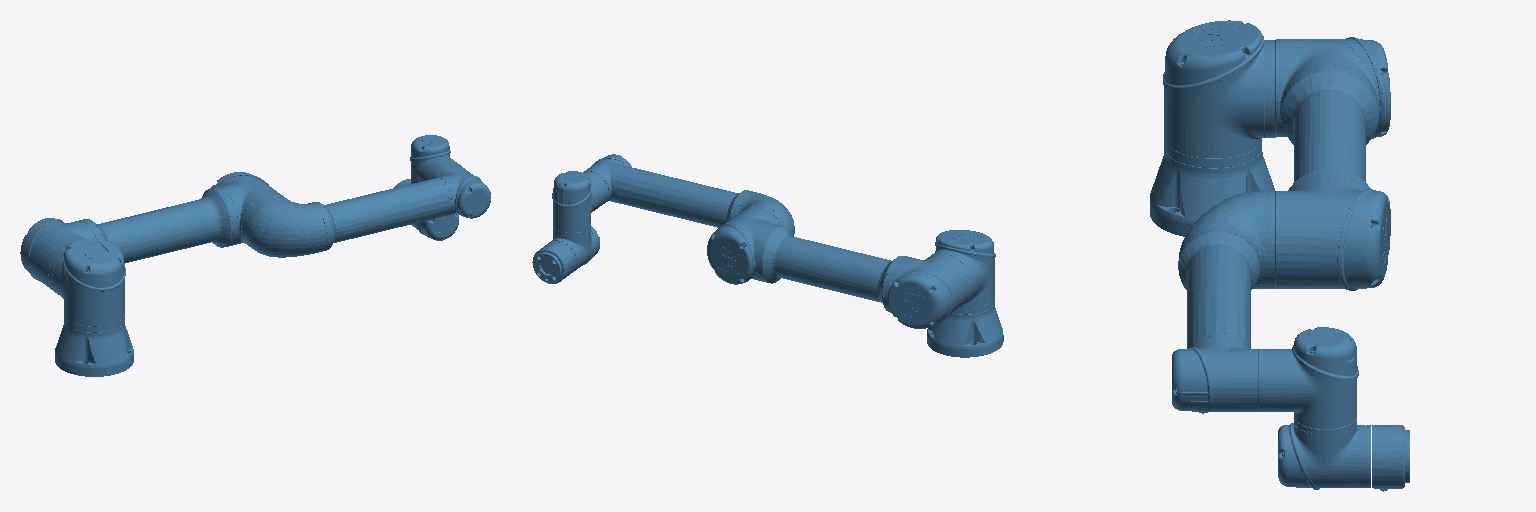
robot.urdf — ur7e:
<?xml version='1.0' encoding='utf-8'?>
<robot name="ur7e">
  <link name="base_link" />
  <link name="base_link_inertia">
    <inertial>
      <origin xyz="0 0 0" rpy="0 0 0" />
      <mass value="4.0" />
      <inertia ixx="0.004433333333333333" iyy="0.004433333333333333" izz="0.0072" ixy="0" ixz="0" iyz="0" />
    </inertial>
    <visual>
      <origin xyz="0.0 0.0 0.0" rpy="0.0 0.0 3.141592653589793" />
      <geometry>
        <mesh filename="meshes/visual/base.obj" />
      </geometry>
      <material name="ur_blue">
        <color rgba="0.35 0.55 0.7 1" />
      </material>
    </visual>
    <collision>
      <origin xyz="0.0 0.0 0.0" rpy="0.0 0.0 3.141592653589793" />
      <geometry>
        <mesh filename="meshes/collision/base.obj" />
      </geometry>
    </collision>
  </link>
  <joint name="base_link-base_link_inertia" type="fixed">
    <parent link="base_link" />
    <child link="base_link_inertia" />
    <origin xyz="0 0 0" rpy="0 0 3.141592653589793" />
  </joint>
  <link name="shoulder_link">
    <inertial>
      <origin xyz="0.0 -0.00193 -0.02561" rpy="1.570796326794897 0 0" />
      <mass value="3.761" />
      <inertia ixx="0.0070021" ixy="7.3e-07" ixz="-1.053e-05" iyy="0.00648091" iyz="0.00049994" izz="0.00657286" />
    </inertial>
    <visual>
      <origin xyz="0.0 0.0 0.0" rpy="0.0 0.0 3.141592653589793" />
      <geometry>
        <mesh filename="meshes/visual/shoulder.obj" />
      </geometry>
      <material name="ur_blue">
        <color rgba="0.35 0.55 0.7 1" />
      </material>
    </visual>
    <collision>
      <origin xyz="0.0 0.0 0.0" rpy="0.0 0.0 3.141592653589793" />
      <geometry>
        <mesh filename="meshes/collision/shoulder.obj" />
      </geometry>
    </collision>
  </link>
  <joint name="shoulder_pan_joint" type="revolute">
    <parent link="base_link_inertia" />
    <child link="shoulder_link" />
    <origin xyz="0 0 0.1625" rpy="0 0 0" />
    <axis xyz="0 0 1" />
    <limit lower="-6.283185307179586" upper="6.283185307179586" effort="150" velocity="3.141592653589793" />
    <dynamics damping="0" friction="0" />
  </joint>
  <transmission name="shoulder_pan_joint_transmission">
    <type>transmission_interface/SimpleTransmission</type>
    <joint name="shoulder_pan_joint">
      <hardwareInterface>hardware_interface/EffortJointInterface</hardwareInterface>
    </joint>
    <actuator name="shoulder_pan_joint_actuator">
      <mechanicalReduction>1</mechanicalReduction>
    </actuator>
  </transmission>
  <link name="upper_arm_link">
    <inertial>
      <origin xyz="-0.2125 0.0 0.11336" rpy="0 0 0" />
      <mass value="8.058" />
      <inertia ixx="0.01505885" ixy="-5.4e-05" ixz="5.63e-06" iyy="0.33388086" iyz="-1.81e-06" izz="0.33247207" />
    </inertial>
    <visual>
      <origin xyz="0.0 0.0 0.138" rpy="1.5707963267948966 0.0 -1.5707963267948966" />
      <geometry>
        <mesh filename="meshes/visual/upper_arm.obj" />
      </geometry>
      <material name="ur_blue">
        <color rgba="0.35 0.55 0.7 1" />
      </material>
    </visual>
    <collision>
      <origin xyz="0.0 0.0 0.138" rpy="1.5707963267948966 0.0 -1.5707963267948966" />
      <geometry>
        <mesh filename="meshes/collision/upper_arm.obj" />
      </geometry>
    </collision>
  </link>
  <joint name="shoulder_lift_joint" type="revolute">
    <parent link="shoulder_link" />
    <child link="upper_arm_link" />
    <origin xyz="0 0 0" rpy="1.570796327 0 0" />
    <axis xyz="0 0 1" />
    <limit lower="-6.283185307179586" upper="6.283185307179586" effort="150" velocity="3.141592653589793" />
    <dynamics damping="0" friction="0" />
  </joint>
  <transmission name="shoulder_lift_joint_transmission">
    <type>transmission_interface/SimpleTransmission</type>
    <joint name="shoulder_lift_joint">
      <hardwareInterface>hardware_interface/EffortJointInterface</hardwareInterface>
    </joint>
    <actuator name="shoulder_lift_joint_actuator">
      <mechanicalReduction>1</mechanicalReduction>
    </actuator>
  </transmission>
  <link name="forearm_link">
    <inertial>
      <origin xyz="-0.2422 0.0 0.0265" rpy="0 0 0" />
      <mass value="2.846" />
      <inertia ixx="0.00399632" ixy="-1.365e-05" ixz="0.00137272" iyy="0.07879254" iyz="-6.6e-06" izz="0.0784851" />
    </inertial>
    <visual>
      <origin xyz="0.0 0.0 0.007" rpy="1.5707963267948966 0.0 -1.5707963267948966" />
      <geometry>
        <mesh filename="meshes/visual/forearm.obj" />
      </geometry>
      <material name="ur_blue">
        <color rgba="0.35 0.55 0.7 1" />
      </material>
    </visual>
    <collision>
      <origin xyz="0.0 0.0 0.007" rpy="1.5707963267948966 0.0 -1.5707963267948966" />
      <geometry>
        <mesh filename="meshes/collision/forearm.obj" />
      </geometry>
    </collision>
  </link>
  <joint name="elbow_joint" type="revolute">
    <parent link="upper_arm_link" />
    <child link="forearm_link" />
    <origin xyz="-0.425 0 0" rpy="0 0 0" />
    <axis xyz="0 0 1" />
    <limit lower="-3.141592653589793" upper="3.141592653589793" effort="150" velocity="3.141592653589793" />
    <dynamics damping="0" friction="0" />
  </joint>
  <transmission name="elbow_joint_transmission">
    <type>transmission_interface/SimpleTransmission</type>
    <joint name="elbow_joint">
      <hardwareInterface>hardware_interface/EffortJointInterface</hardwareInterface>
    </joint>
    <actuator name="elbow_joint_actuator">
      <mechanicalReduction>1</mechanicalReduction>
    </actuator>
  </transmission>
  <link name="wrist_1_link">
    <inertial>
      <origin xyz="0.0 -0.01634 -0.0018" rpy="1.570796326794897 0 0" />
      <mass value="1.37" />
      <inertia ixx="0.00165491" ixy="-2.82e-06" ixz="-4.38e-06" iyy="0.00135962" iyz="0.00010157" izz="0.00126279" />
    </inertial>
    <visual>
      <origin xyz="0.0 0.0 -0.127" rpy="1.5707963267948966 0.0 0.0" />
      <geometry>
        <mesh filename="meshes/visual/wrist_1.obj" />
      </geometry>
      <material name="ur_blue">
        <color rgba="0.35 0.55 0.7 1" />
      </material>
    </visual>
    <collision>
      <origin xyz="0.0 0.0 -0.127" rpy="1.5707963267948966 0.0 0.0" />
      <geometry>
        <mesh filename="meshes/collision/wrist_1.obj" />
      </geometry>
    </collision>
  </link>
  <joint name="wrist_1_joint" type="revolute">
    <parent link="forearm_link" />
    <child link="wrist_1_link" />
    <origin xyz="-0.3922 0 0.1333" rpy="0 0 0" />
    <axis xyz="0 0 1" />
    <limit lower="-6.283185307179586" upper="6.283185307179586" effort="28" velocity="3.141592653589793" />
    <dynamics damping="0" friction="0" />
  </joint>
  <transmission name="wrist_1_joint_transmission">
    <type>transmission_interface/SimpleTransmission</type>
    <joint name="wrist_1_joint">
      <hardwareInterface>hardware_interface/EffortJointInterface</hardwareInterface>
    </joint>
    <actuator name="wrist_1_joint_actuator">
      <mechanicalReduction>1</mechanicalReduction>
    </actuator>
  </transmission>
  <link name="wrist_2_link">
    <inertial>
      <origin xyz="0.0 0.01634 -0.0018" rpy="-1.570796326794897 0 0" />
      <mass value="1.3" />
      <inertia ixx="0.00135617" ixy="-2.74e-06" ixz="4.44e-06" iyy="0.00127827" iyz="-5.048e-05" izz="0.00096614" />
    </inertial>
    <visual>
      <origin xyz="0.0 0.0 -0.0997" rpy="0.0 0.0 0.0" />
      <geometry>
        <mesh filename="meshes/visual/wrist_2.obj" />
      </geometry>
      <material name="ur_blue">
        <color rgba="0.35 0.55 0.7 1" />
      </material>
    </visual>
    <collision>
      <origin xyz="0.0 0.0 -0.0997" rpy="0.0 0.0 0.0" />
      <geometry>
        <mesh filename="meshes/collision/wrist_2.obj" />
      </geometry>
    </collision>
  </link>
  <joint name="wrist_2_joint" type="revolute">
    <parent link="wrist_1_link" />
    <child link="wrist_2_link" />
    <origin xyz="0 -0.0997 -2.044881182297852e-11" rpy="1.570796327 0 0" />
    <axis xyz="0 0 1" />
    <limit lower="-6.283185307179586" upper="6.283185307179586" effort="28" velocity="3.141592653589793" />
    <dynamics damping="0" friction="0" />
  </joint>
  <transmission name="wrist_2_joint_transmission">
    <type>transmission_interface/SimpleTransmission</type>
    <joint name="wrist_2_joint">
      <hardwareInterface>hardware_interface/EffortJointInterface</hardwareInterface>
    </joint>
    <actuator name="wrist_2_joint_actuator">
      <mechanicalReduction>1</mechanicalReduction>
    </actuator>
  </transmission>
  <link name="wrist_3_link">
    <inertial>
      <origin xyz="0.0 0.0 -0.001159" rpy="0 0 0" />
      <mass value="0.365" />
      <inertia ixx="0.00018694" ixy="6e-08" ixz="-1.7e-07" iyy="0.00018908" iyz="-9.2e-07" izz="0.00025756" />
    </inertial>
    <visual>
      <origin xyz="0.0 -0.0005 -0.0989" rpy="1.5707963267948966 0.0 0.0" />
      <geometry>
        <mesh filename="meshes/visual/wrist_3.obj" />
      </geometry>
      <material name="ur_blue">
        <color rgba="0.35 0.55 0.7 1" />
      </material>
    </visual>
    <collision>
      <origin xyz="0.0 -0.0005 -0.0989" rpy="1.5707963267948966 0.0 0.0" />
      <geometry>
        <mesh filename="meshes/collision/wrist_3.obj" />
      </geometry>
    </collision>
  </link>
  <joint name="wrist_3_joint" type="revolute">
    <parent link="wrist_2_link" />
    <child link="wrist_3_link" />
    <origin xyz="0 0.0996 -2.042830148012698e-11" rpy="1.570796326589793 3.141592653589793 3.141592653589793" />
    <axis xyz="0 0 1" />
    <limit lower="-6.283185307179586" upper="6.283185307179586" effort="28" velocity="3.141592653589793" />
    <dynamics damping="0" friction="0" />
  </joint>
  <transmission name="wrist_3_joint_transmission">
    <type>transmission_interface/SimpleTransmission</type>
    <joint name="wrist_3_joint">
      <hardwareInterface>hardware_interface/EffortJointInterface</hardwareInterface>
    </joint>
    <actuator name="wrist_3_joint_actuator">
      <mechanicalReduction>1</mechanicalReduction>
    </actuator>
  </transmission>
  <link name="ft_frame" />
  <joint name="wrist_3_link-ft_frame" type="fixed">
    <parent link="wrist_3_link" />
    <child link="ft_frame" />
    <origin xyz="0 0 0" rpy="3.141592653589793 0 0" />
  </joint>
  <link name="base" />
  <joint name="base_link-base" type="fixed">
    <parent link="base_link" />
    <child link="base" />
    <origin xyz="0 0 0" rpy="0 0 3.141592653589793" />
  </joint>
  <link name="flange" />
  <joint name="wrist_3_link-flange" type="fixed">
    <parent link="wrist_3_link" />
    <child link="flange" />
    <origin xyz="0 0 0" rpy="0 -1.5707963267948966 -1.5707963267948966" />
  </joint>
  <link name="tool0" />
  <joint name="flange-tool0" type="fixed">
    <parent link="flange" />
    <child link="tool0" />
    <origin xyz="0 0 0" rpy="1.5707963267948966 0 1.5707963267948966" />
  </joint>
</robot>

--- Facts derived from the render (not from the file) ---
Views: 3 orthographic renders of the robot side by side, from view 1: azimuth 30°, elevation 25°; view 2: azimuth 150°, elevation 25°; view 3: azimuth 270°, elevation 25°.
Robot: ur7e — 12 links, 11 joints (6 revolute, 5 fixed); root link base_link; default pose: all joints at 0.
Links seen in each view (by area): view 1: forearm_link, upper_arm_link, shoulder_link, base_link_inertia, wrist_1_link, wrist_2_link; view 2: upper_arm_link, forearm_link, base_link_inertia, wrist_1_link, shoulder_link, wrist_3_link, wrist_2_link; view 3: upper_arm_link, forearm_link, shoulder_link, wrist_1_link, base_link_inertia, wrist_2_link, wrist_3_link.
Boxes of the visible links, x1,y1,x2,y2 form: forearm_link: [245, 163, 490, 257]; upper_arm_link: [20, 172, 286, 292]; shoulder_link: [49, 238, 125, 325]; base_link_inertia: [55, 315, 133, 376]; wrist_1_link: [410, 135, 460, 183]; wrist_2_link: [411, 213, 458, 240]; upper_arm_link: [707, 205, 971, 328]; forearm_link: [583, 154, 794, 236]; base_link_inertia: [927, 297, 1003, 357]; wrist_1_link: [552, 171, 606, 235]; shoulder_link: [932, 230, 995, 308]; wrist_3_link: [532, 242, 574, 283]; wrist_2_link: [549, 226, 599, 272]; upper_arm_link: [1264, 37, 1390, 290]; forearm_link: [1172, 191, 1263, 413]; shoulder_link: [1163, 20, 1275, 157]; wrist_1_link: [1264, 327, 1358, 434]; base_link_inertia: [1150, 138, 1274, 236]; wrist_2_link: [1278, 423, 1370, 489]; wrist_3_link: [1372, 425, 1409, 491].
Size in the robot's own frame: 0.932 by 0.3085 by 0.234 metres.
7 mesh visuals loaded from 7 distinct referenced files (7 OBJ).
